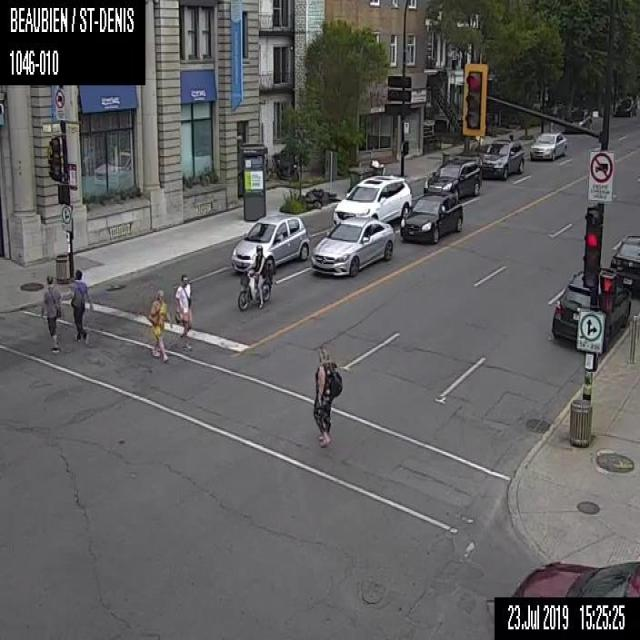pedestrian: (313, 346, 342, 447), (148, 288, 172, 362), (69, 269, 93, 342), (40, 274, 61, 352), (174, 273, 192, 350)
vehicle: (552, 270, 632, 352), (310, 217, 393, 276), (231, 213, 308, 271), (332, 174, 411, 227), (400, 193, 462, 244), (423, 158, 481, 198), (237, 244, 271, 309), (610, 234, 639, 296), (480, 139, 524, 178), (529, 132, 566, 159), (566, 108, 591, 131), (616, 97, 636, 116)
